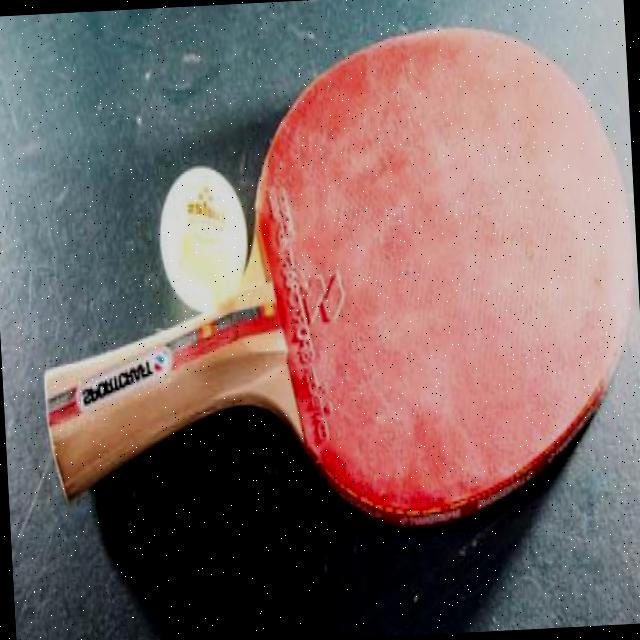ping-pong-ball: (154, 160, 252, 318)
